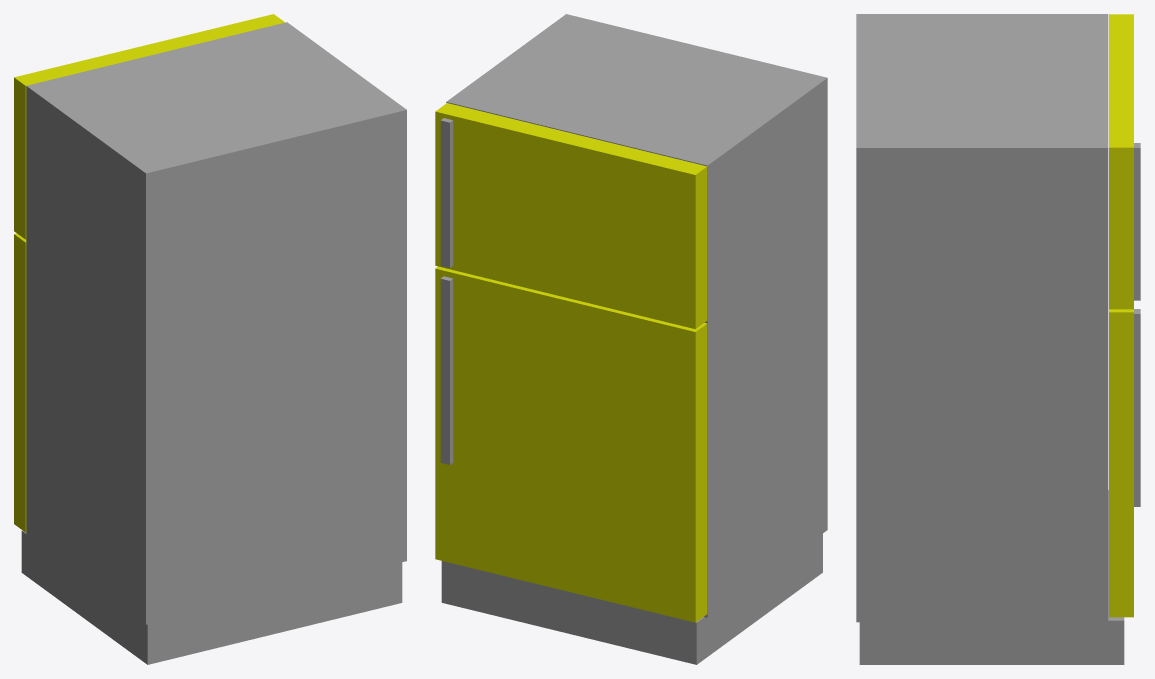
Rendered from Refridgerator.fbx.
3 views of the same model, side by side, from view 1: azimuth 30°, elevation 25°; view 2: azimuth 150°, elevation 25°; view 3: azimuth 270°, elevation 25° (orthographic). The views are drawn at different scales.
Visible parts, largest first — view 1: Refridgerator; view 2: Refridgerator; view 3: Refridgerator.
Boxes of the visible parts, x1,y1,x2,y2 form: Refridgerator: (14,14,406,664); Refridgerator: (435,14,827,664); Refridgerator: (856,14,1140,664).
Bounding box in the file's own units: 3.5 × 6.33 × 3.14.
